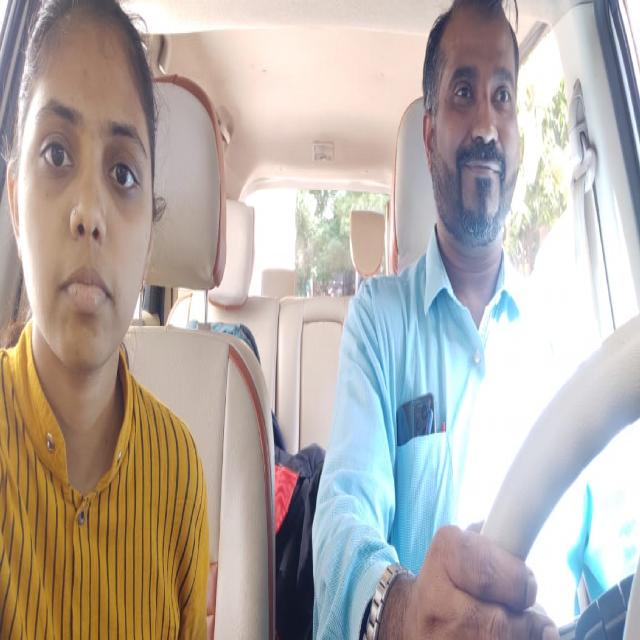person: (6, 0, 170, 412), (420, 0, 534, 264)
